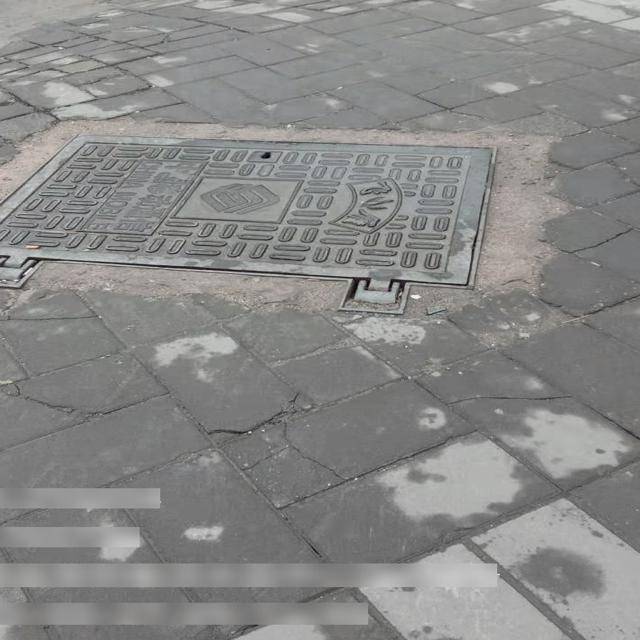good: (0, 130, 493, 316)
